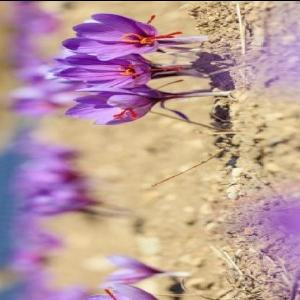Saffron: (60, 9, 162, 55), (54, 49, 168, 89), (65, 79, 168, 122), (101, 252, 166, 286)
